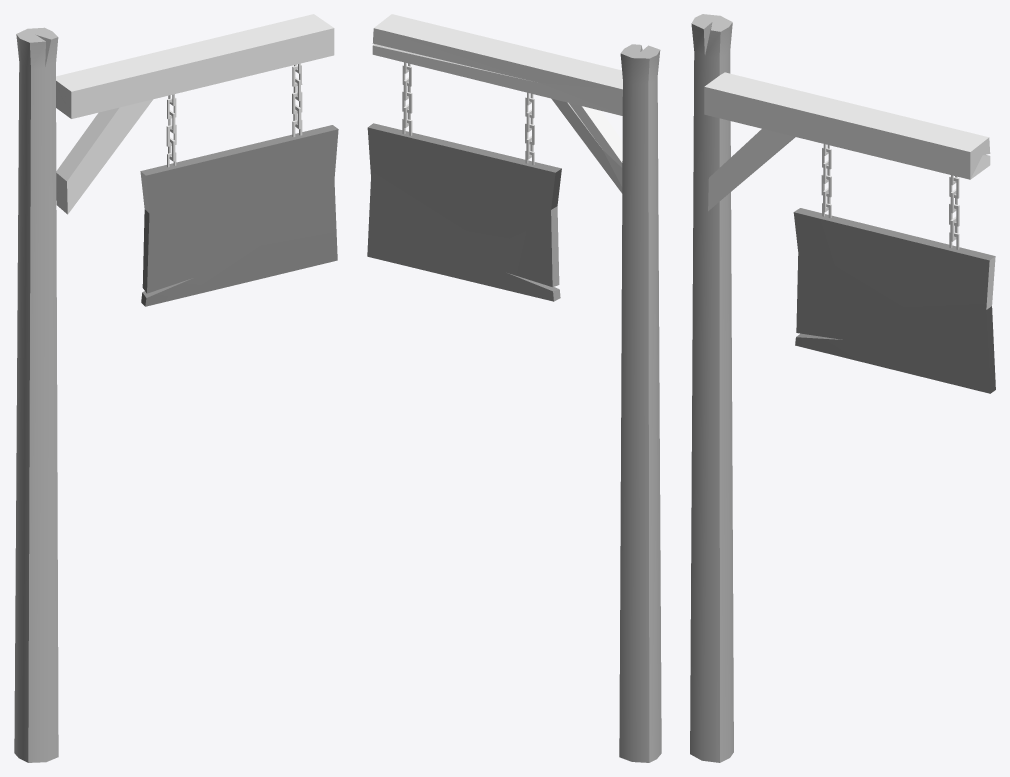
File: PT_Street_Sign_01.fbx
The picture shows the model from 3 angles, left to right: view 1: azimuth 30°, elevation 25°; view 2: azimuth 150°, elevation 25°; view 3: azimuth 330°, elevation 25°; orthographic projection. The views are drawn at different scales.
Visible parts, largest first — view 1: PT_Street_Sign_01; view 2: PT_Street_Sign_01; view 3: PT_Street_Sign_01.
Part boxes in pixels (x1=…): PT_Street_Sign_01: x1=14, y1=14, x2=338, y2=762; PT_Street_Sign_01: x1=367, y1=14, x2=661, y2=762; PT_Street_Sign_01: x1=690, y1=14, x2=995, y2=762.
Size of the model in its own units: 178 by 401 by 31.28.
1 material, 1 textured.
